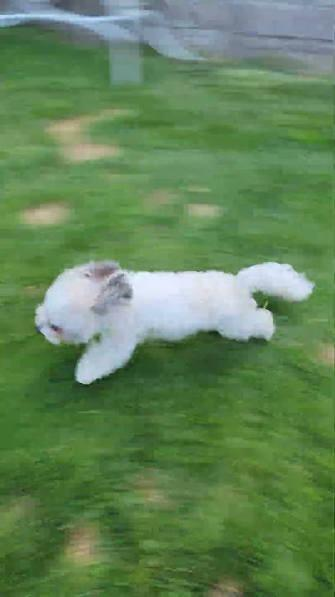adult_dog: (34, 259, 316, 387)
